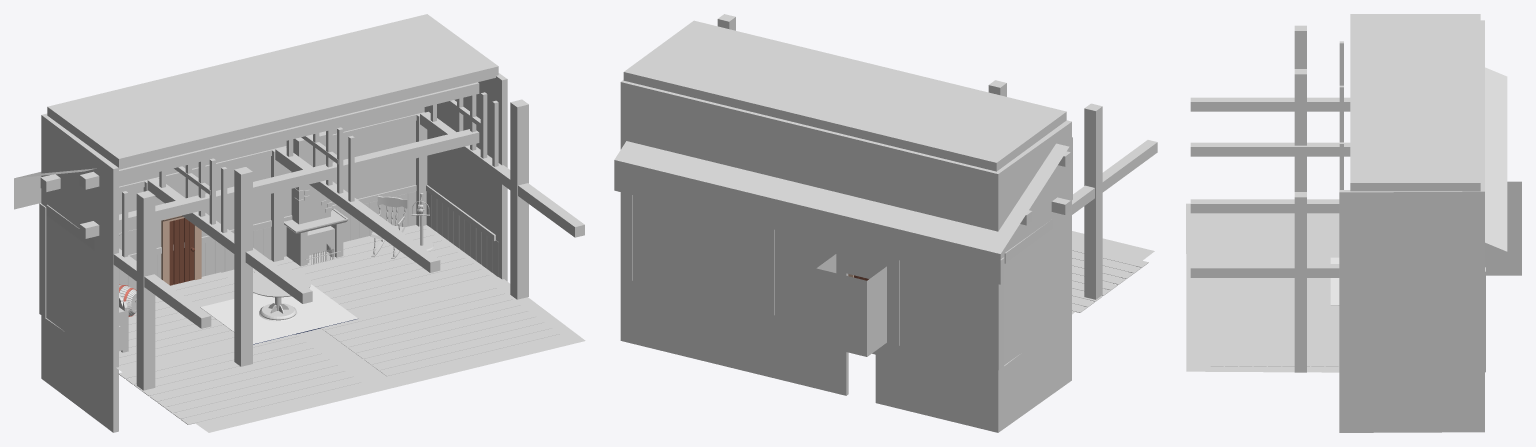
Rendered from livingroom_withUV.fbx.
3 renders of one model, left to right at view 1: azimuth 30°, elevation 25°; view 2: azimuth 150°, elevation 25°; view 3: azimuth 270°, elevation 25°, orthographic. The views are drawn at different scales.
Visible parts, largest first — view 1: Cube.008, structure, roof, structure.006, structure.002, structure.007, 立方体, fireplace, 平面, structure.005, Cylinder.003, desk (+3 smaller); view 2: structure, roof, structure.006, structure.005, structure.007, Cube.008, structure.002; view 3: structure, roof, Cube.008, structure.006, structure.002, structure.007, 平面.
Boxes of the visible parts, <box> form: Cube.008: <box>118,225,559,424</box>; structure: <box>41,73,507,432</box>; roof: <box>47,14,498,169</box>; structure.006: <box>14,82,584,328</box>; structure.002: <box>45,225,585,432</box>; structure.007: <box>136,99,528,390</box>; 立方体: <box>119,191,498,289</box>; fireplace: <box>284,131,348,266</box>; 平面: <box>200,284,357,344</box>; structure.005: <box>39,114,427,317</box>; Cylinder.003: <box>161,215,201,285</box>; desk: <box>253,268,311,321</box>; structure: <box>620,80,1071,432</box>; roof: <box>623,20,1066,171</box>; structure.006: <box>614,137,1157,284</box>; structure.005: <box>622,192,1004,370</box>; structure.007: <box>717,14,1102,299</box>; Cube.008: <box>1072,243,1148,312</box>; structure.002: <box>1004,231,1154,365</box>; structure: <box>1339,20,1521,432</box>; roof: <box>1350,14,1480,191</box>; Cube.008: <box>1210,213,1338,366</box>; structure.006: <box>1190,41,1507,277</box>; structure.002: <box>1186,203,1339,372</box>; structure.007: <box>1294,25,1306,372</box>; 平面: <box>1330,257,1339,305</box>.
Bounding box in the file's own units: 1621 × 1052 × 1287.
